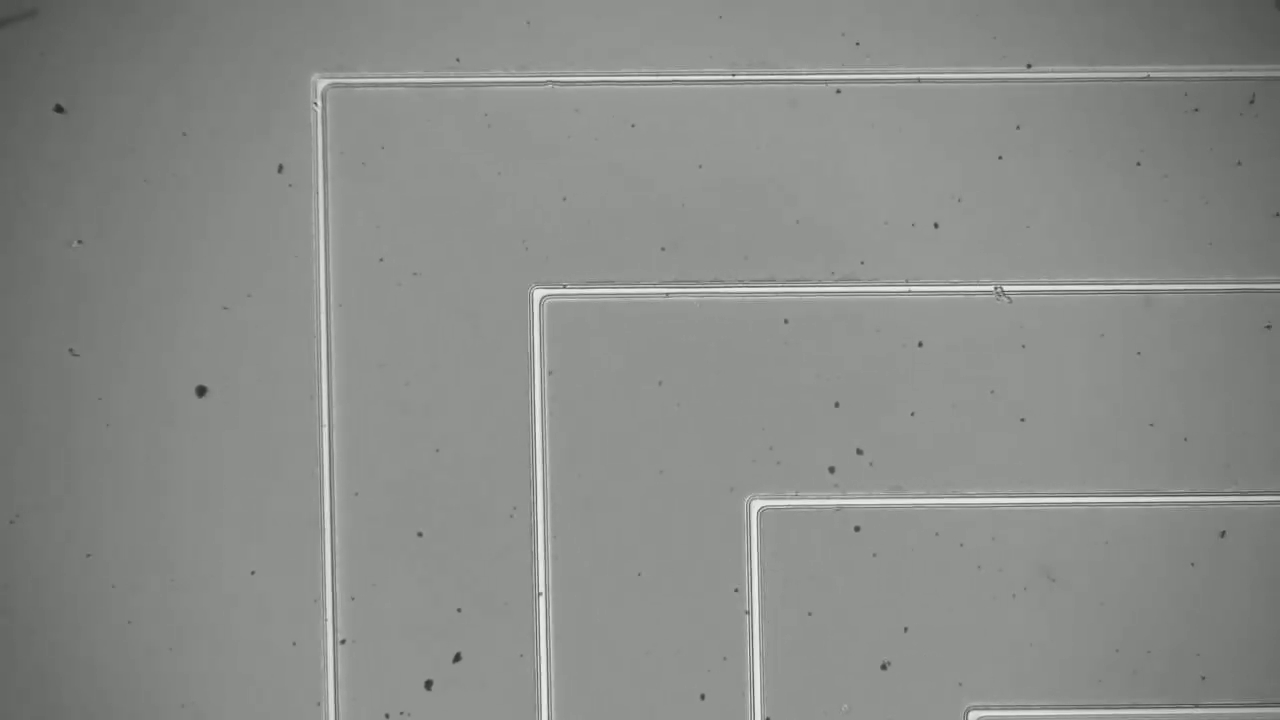stains_enbedded: (987, 270, 1019, 314)
